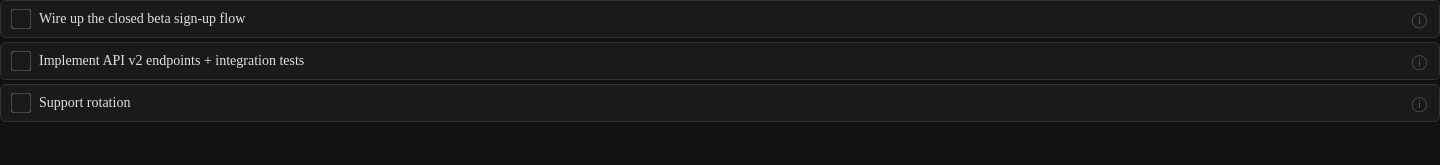
Test: GoalRow (via TodaysGoals) › ⓘ toggle reveals and hides detail
Note: Click to open
What coordinates should you click on to do the following:
click the button named "toggle detail"
I would click on:
 (1419, 19)
Its box is [1410,12,1429,26].
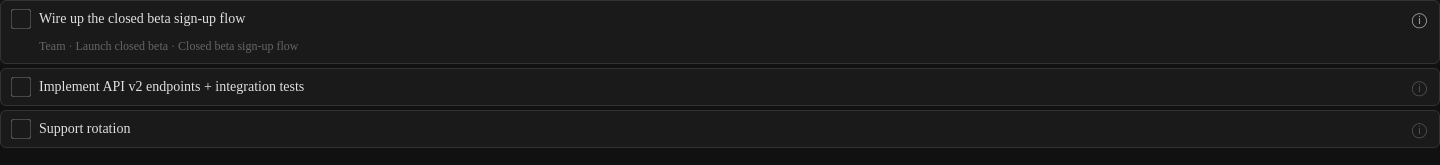
Expected: the text "Team · Launch closed beta · Closed beta sign-up flow" is shown, [39,39,298,53]
Note: Click to close
What coordinates should you click on to do the following:
click the button named "toggle detail"
I would click on:
 (1419, 19)
Its box is [1410,12,1429,26].
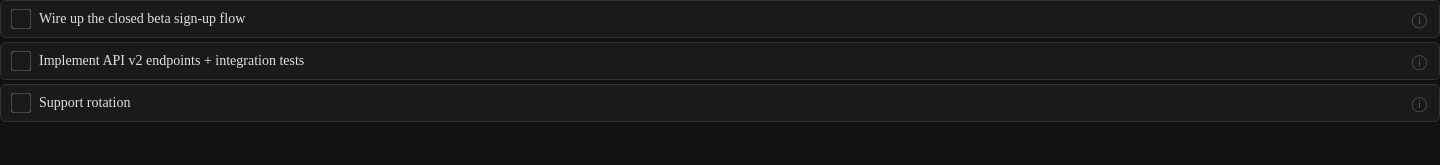
Expected: the text with class "midday-goal-row__detail" is gone
